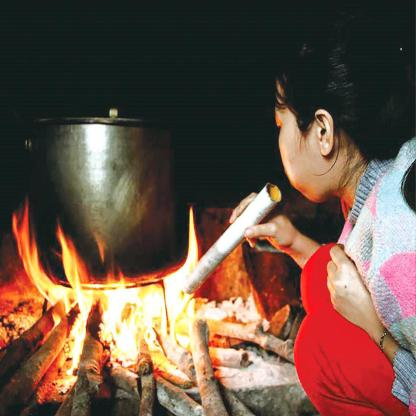fire: (8, 190, 213, 384)
